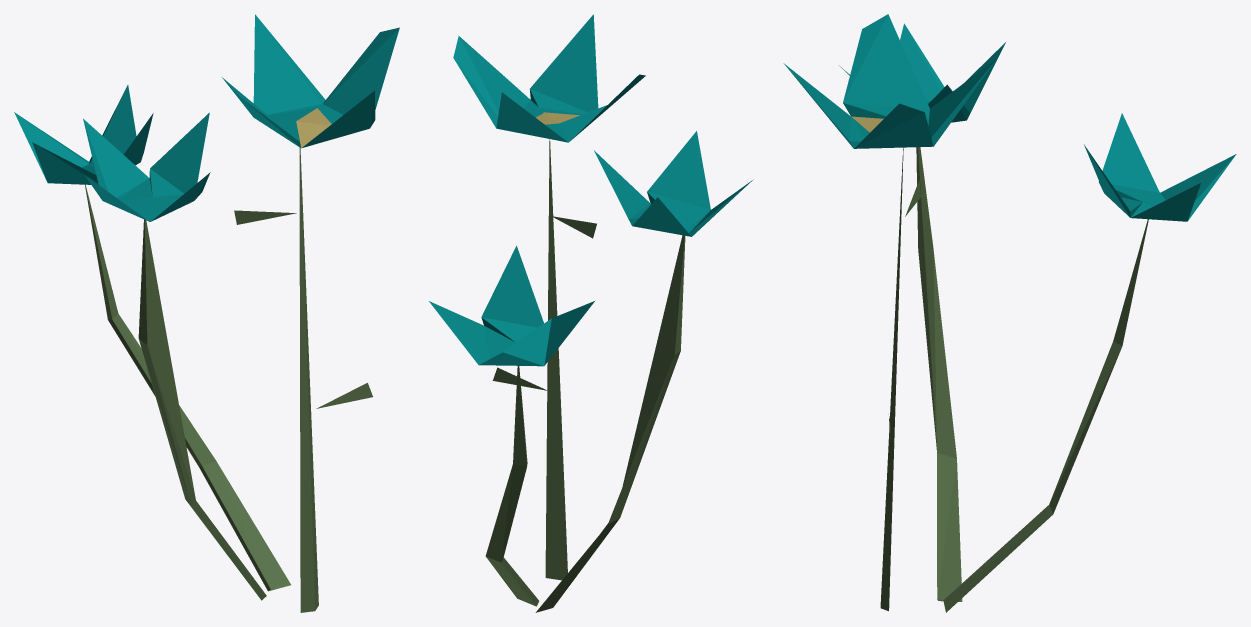
The model's file is Flowers.lod2.glb.
3 renders of one model, left to right at view 1: azimuth 30°, elevation 25°; view 2: azimuth 150°, elevation 25°; view 3: azimuth 270°, elevation 25°, orthographic. The views are drawn at different scales.
Parts seen in each view (by area): view 1: Flowers; view 2: Flowers; view 3: Flowers.
Part boxes in pixels (<box>): Flowers: <box>14,14,399,612</box>; Flowers: <box>429,14,753,612</box>; Flowers: <box>783,14,1236,612</box>.
Bounding box in the file's own units: 0.4865 × 0.8288 × 0.6137.
